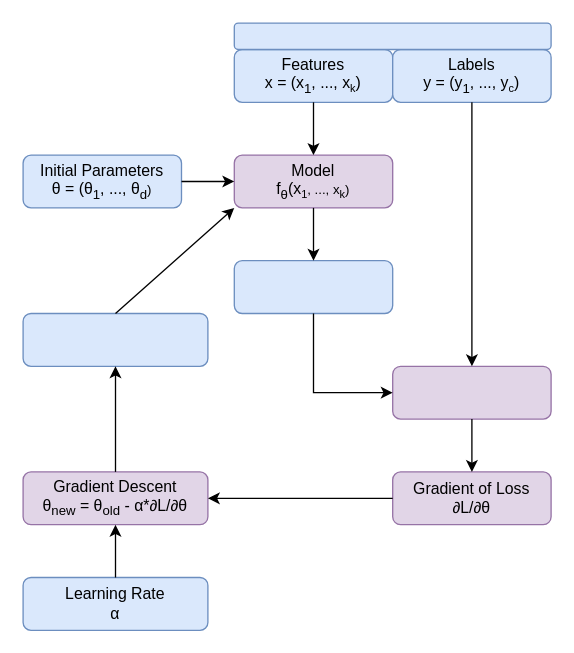
Some shapes in this 574 by 653 pixel diagram are drawn without their labels. Each missing label, with the centre of its shape:
"Data" belongs at pixel 392 36.
"Loss L(y, y pred )" belongs at pixel 471 392.
"Prediction y pred = (y 1 , ..., y C )" belongs at pixel 313 286.
"Updated Parameters θ new = (θ 1 , ..., θ d )" belongs at pixel 115 339.
